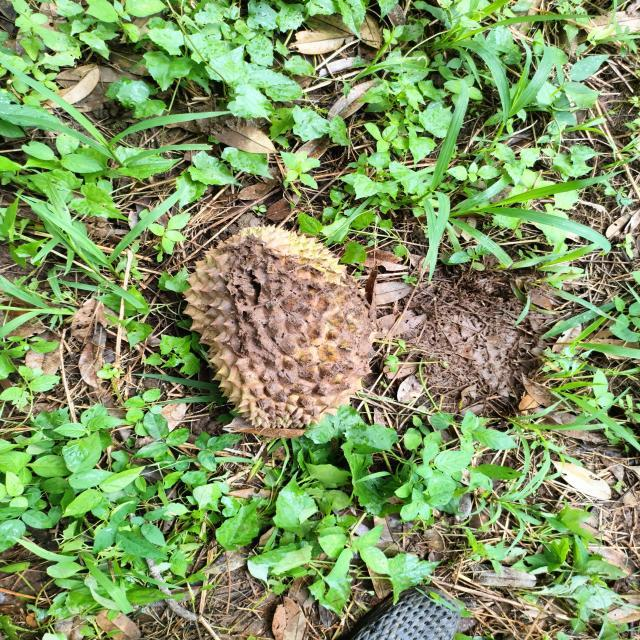defective: (181, 221, 377, 437)
